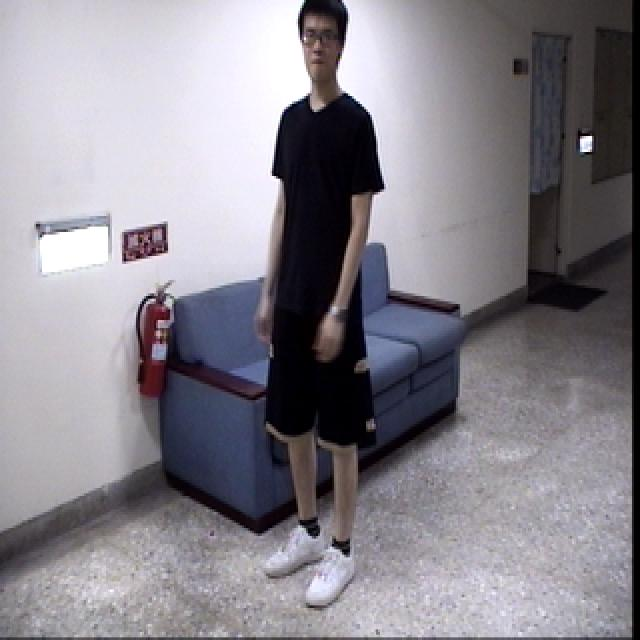stand: (258, 0, 388, 627)
